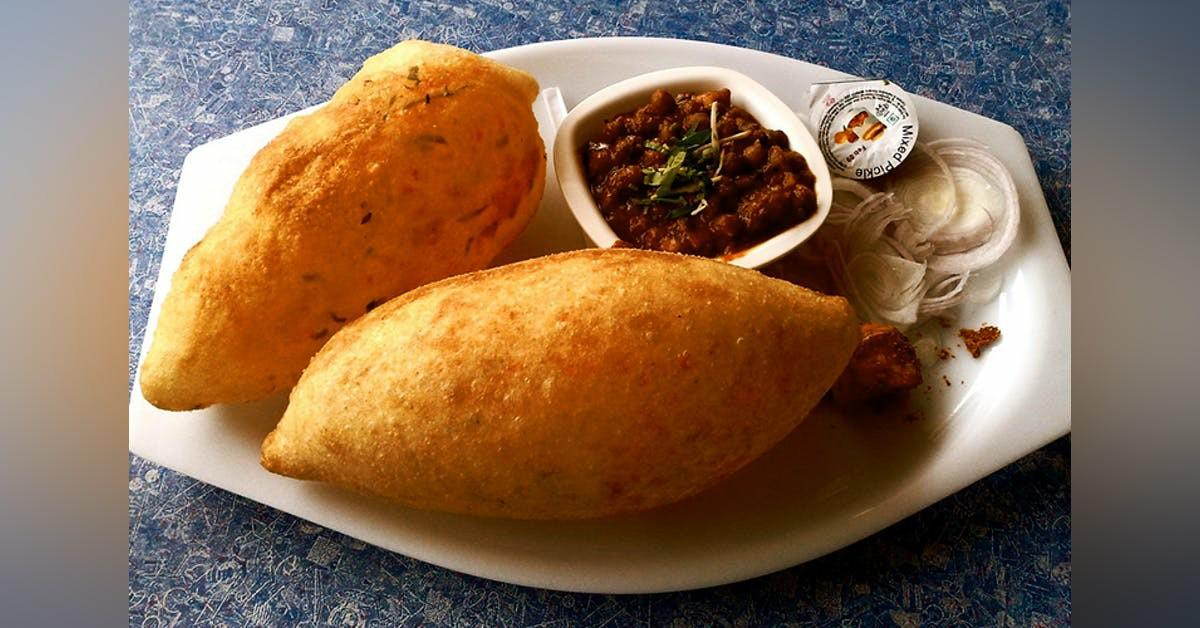Bhatura: (259, 248, 860, 519), (139, 40, 546, 411)
Chole: (579, 87, 819, 256)
